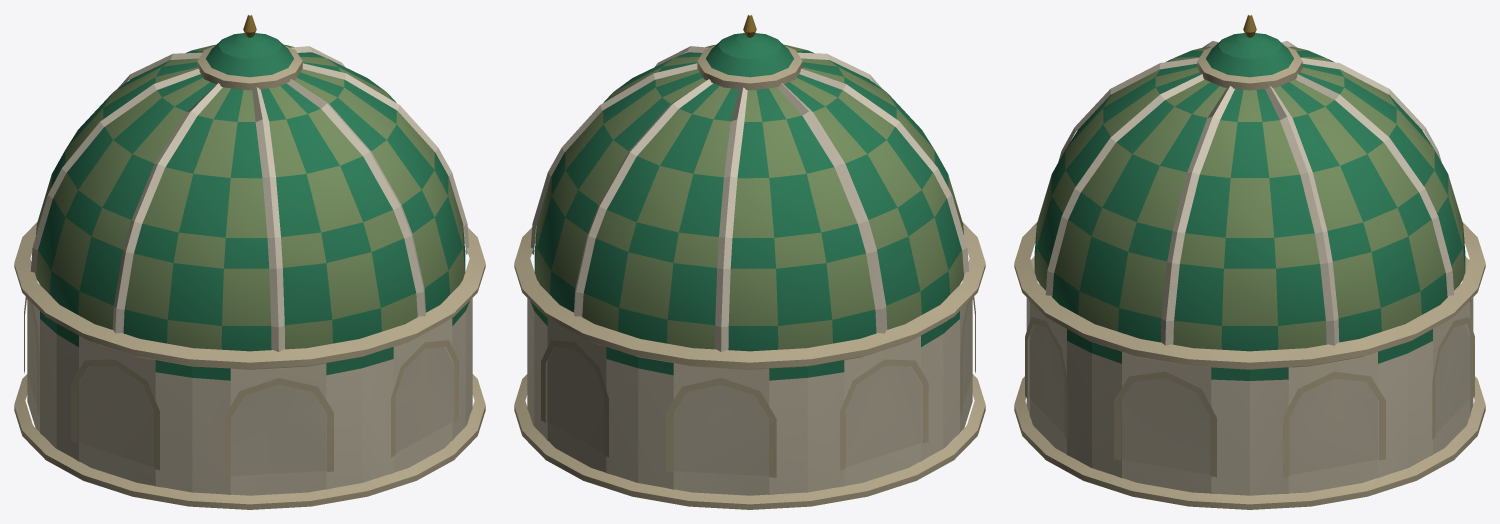
File: dome.closed_8.green.glb
3 views of the same model, side by side, from view 1: azimuth 30°, elevation 25°; view 2: azimuth 150°, elevation 25°; view 3: azimuth 270°, elevation 25° (orthographic).
Visible parts, largest first — view 1: dome_closed_8_green; view 2: dome_closed_8_green; view 3: dome_closed_8_green.
Part boxes in pixels (x1,y1,x2,y2): dome_closed_8_green: [14, 15, 485, 509]; dome_closed_8_green: [514, 15, 985, 509]; dome_closed_8_green: [1014, 15, 1485, 509].
Size of what is drawn, in the model's own units: 7.6 by 7.03 by 7.6.
